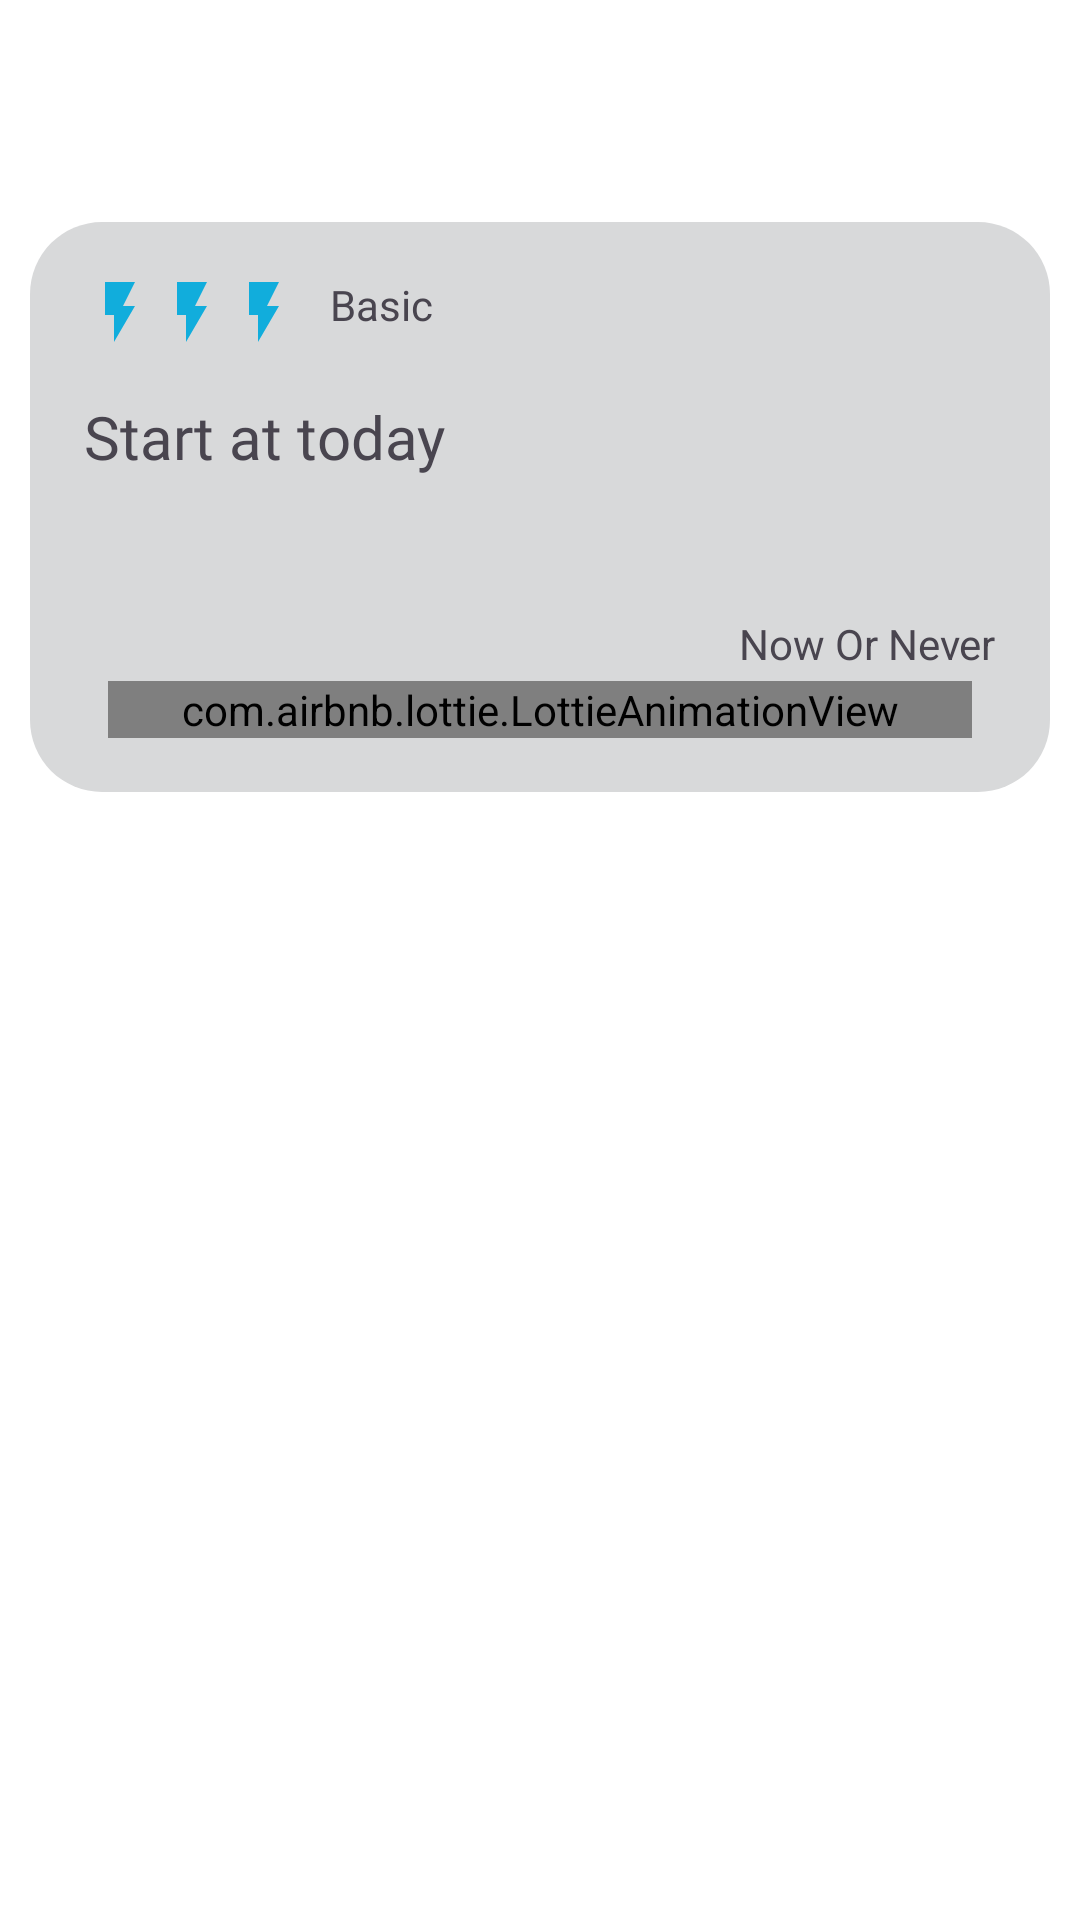

Locate icon controls on the screen. Image size 1080*1920, boxes as (x1, y1, x2, y2).
flash on: (105, 282, 135, 342), (177, 282, 207, 342), (249, 282, 279, 342)
